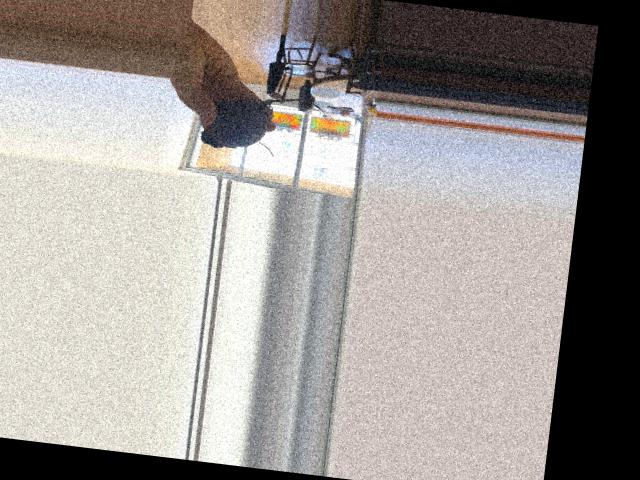beet: (200, 87, 325, 160)
